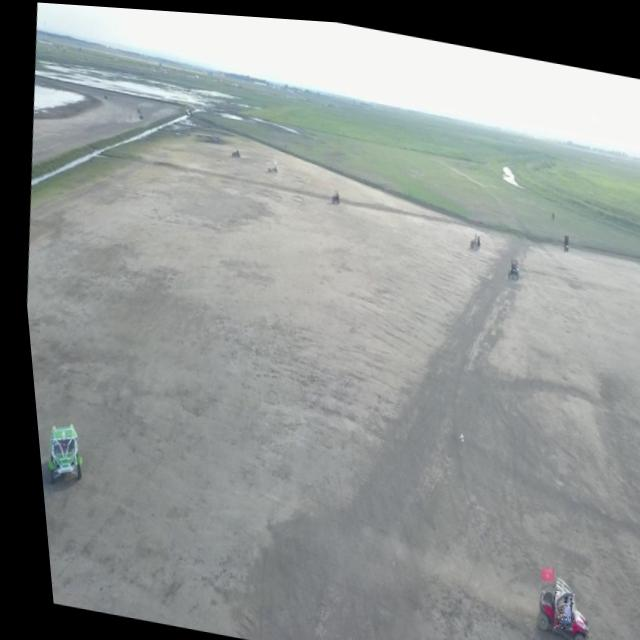Person: (540, 583, 566, 624), (505, 252, 514, 267), (559, 228, 566, 244), (329, 184, 336, 195), (472, 229, 476, 239), (470, 229, 475, 236), (470, 227, 473, 236)
